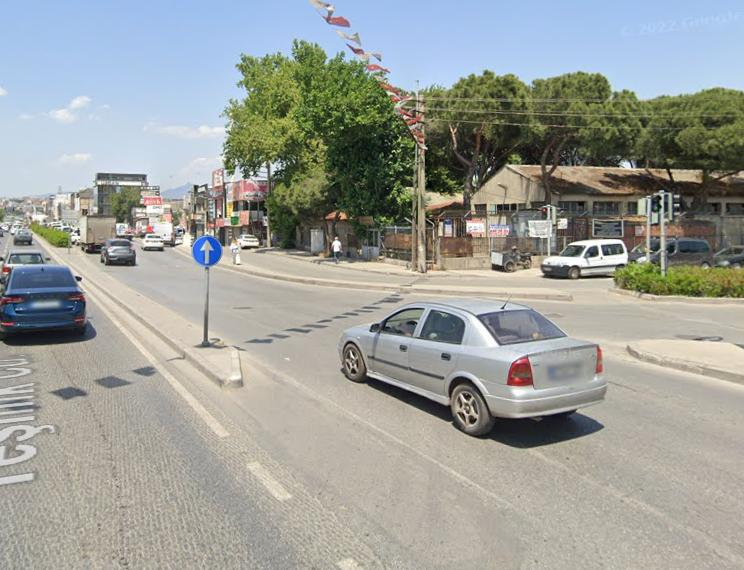forward: (193, 235, 223, 268)
